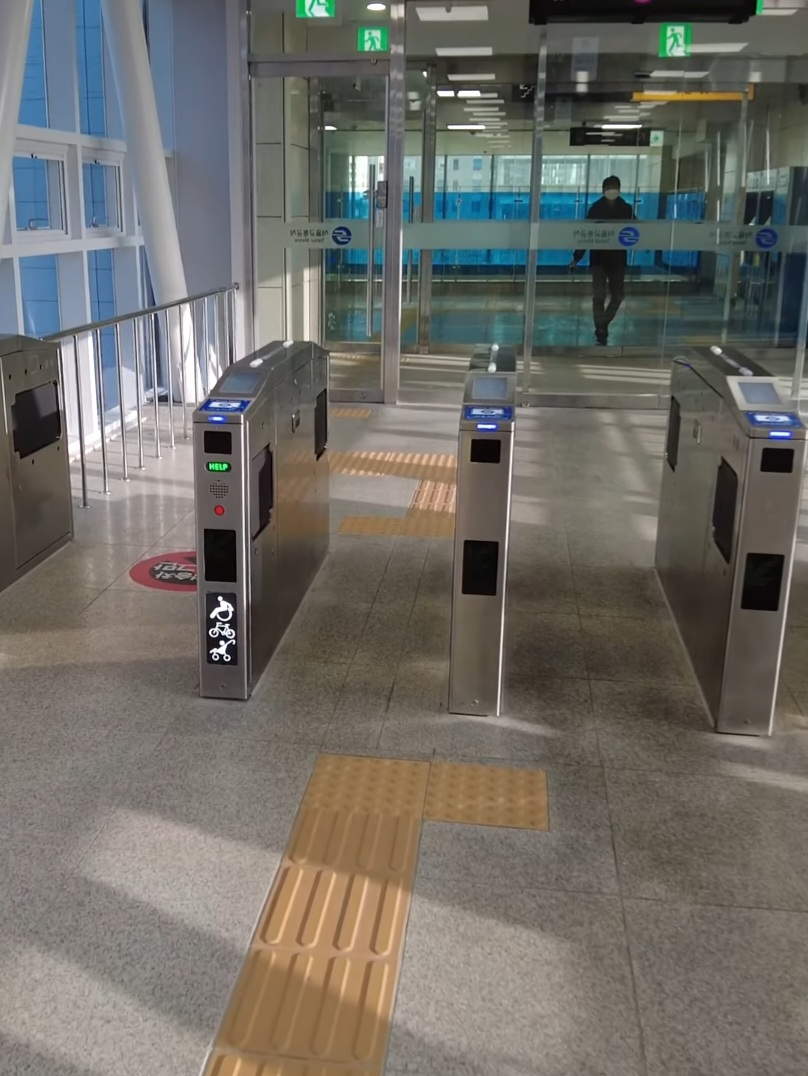guideBlock: (238, 961, 411, 1057), (279, 872, 405, 967), (286, 832, 429, 903)
warningBlock: (310, 751, 445, 823), (430, 757, 558, 831)
